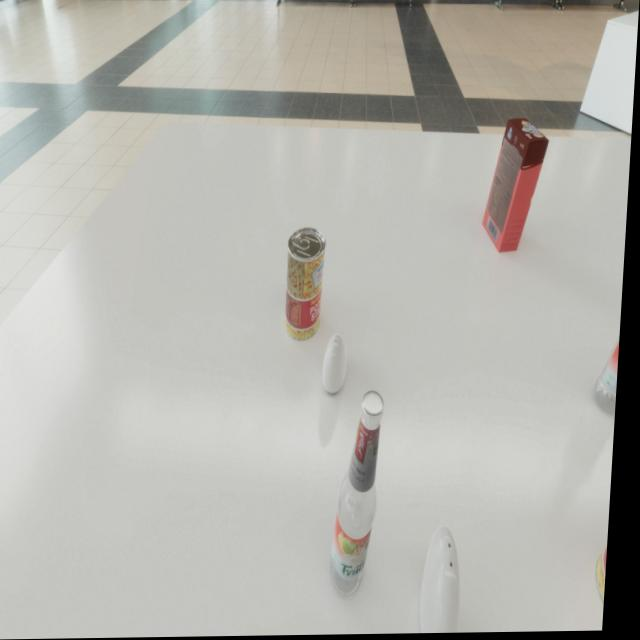Bottle: (334, 392, 390, 600)
HelloPanda: (484, 120, 552, 254)
Potato_sticks: (286, 228, 330, 342)
Salt: (426, 526, 472, 635), (326, 335, 352, 395)
